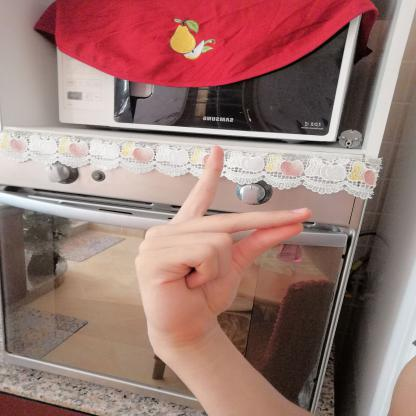TAA: (121, 136, 324, 353)
